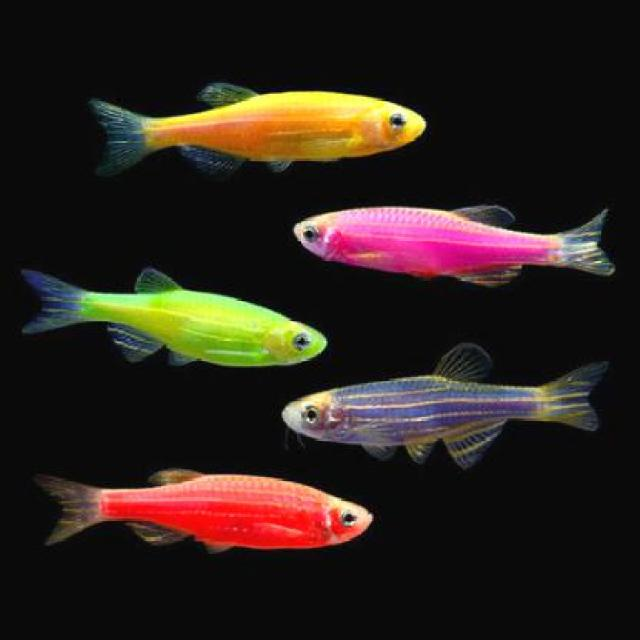ZebraFish: (280, 351, 612, 467), (23, 263, 328, 371), (86, 80, 426, 169), (44, 470, 373, 555), (296, 203, 612, 283)
